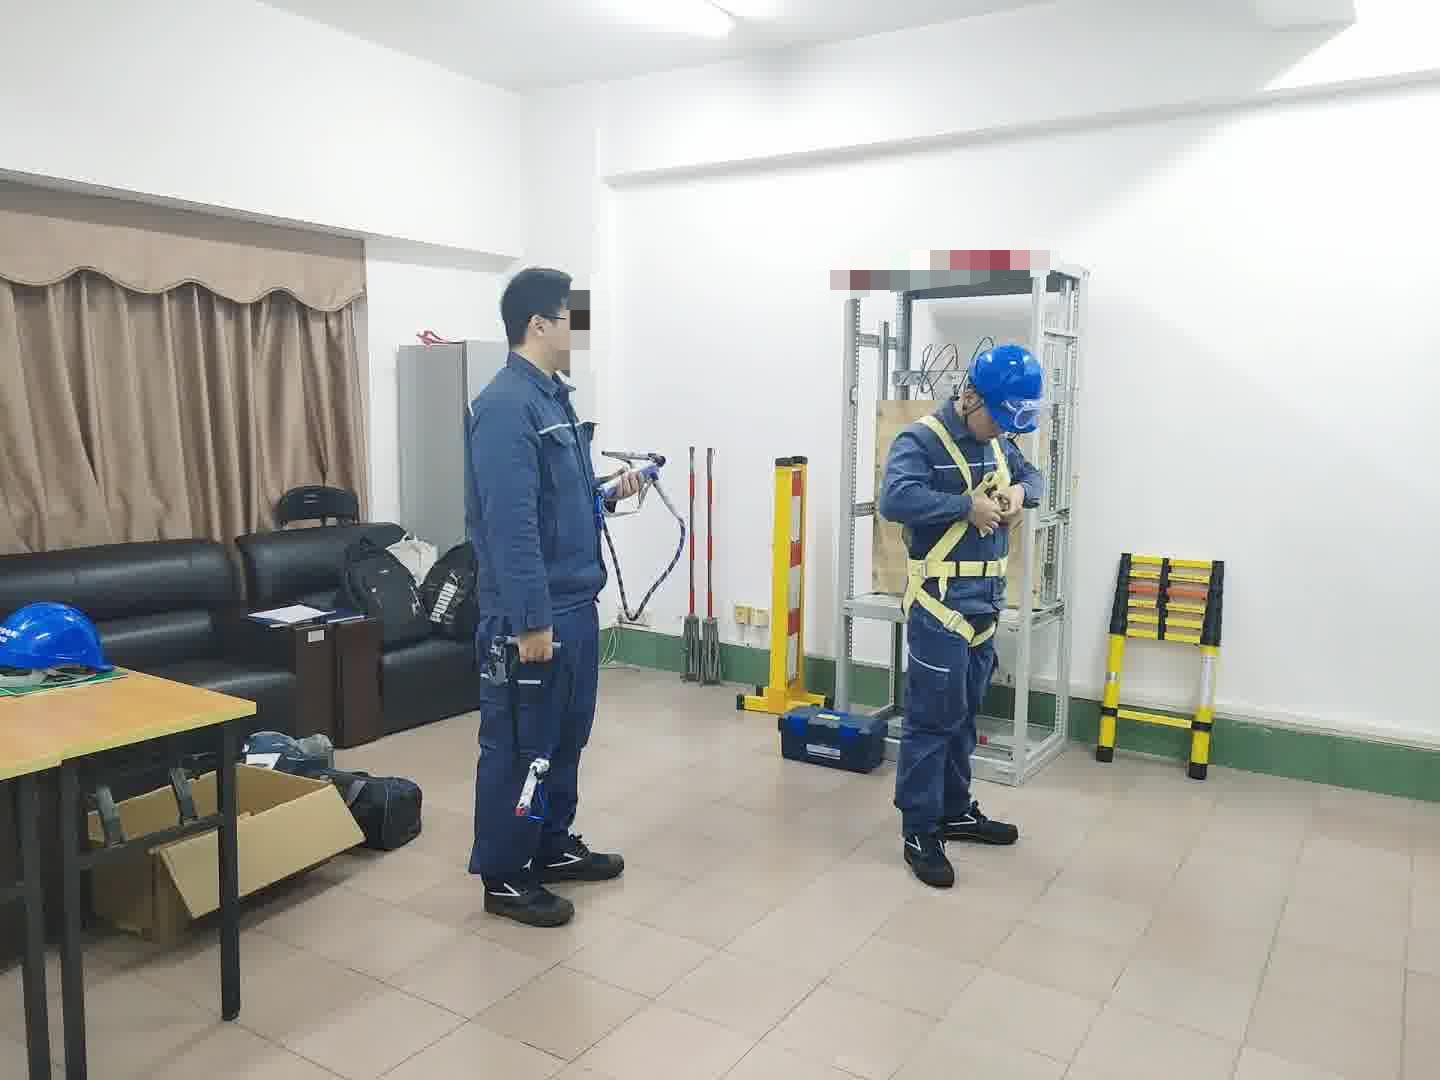halt: (967, 344, 1048, 439)
noear: (525, 314, 559, 354)
unhalt: (499, 271, 592, 373)
